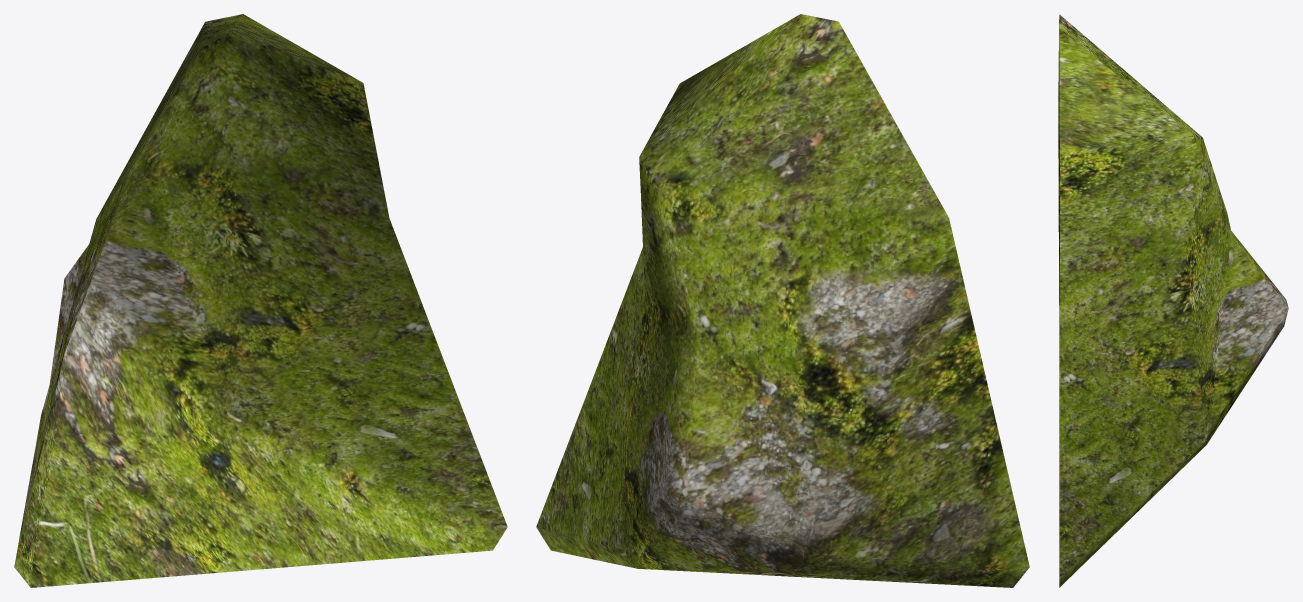
Rendered from forest ground stones mossy 4.fbx.
The picture shows the model from 3 angles, left to right: view 1: azimuth 30°, elevation 25°; view 2: azimuth 150°, elevation 25°; view 3: azimuth 270°, elevation 25°; orthographic projection. The views are drawn at different scales.
Visible parts, largest first — view 1: Plane_008; view 2: Plane_008; view 3: Plane_008.
Part boxes in pixels (box(x1,y1,x2,y2)): Plane_008: box(14, 14, 507, 587); Plane_008: box(536, 14, 1029, 587); Plane_008: box(1058, 14, 1288, 587).
Bounding box in the file's own units: 1.28 × 1.48 × 0.6656.
